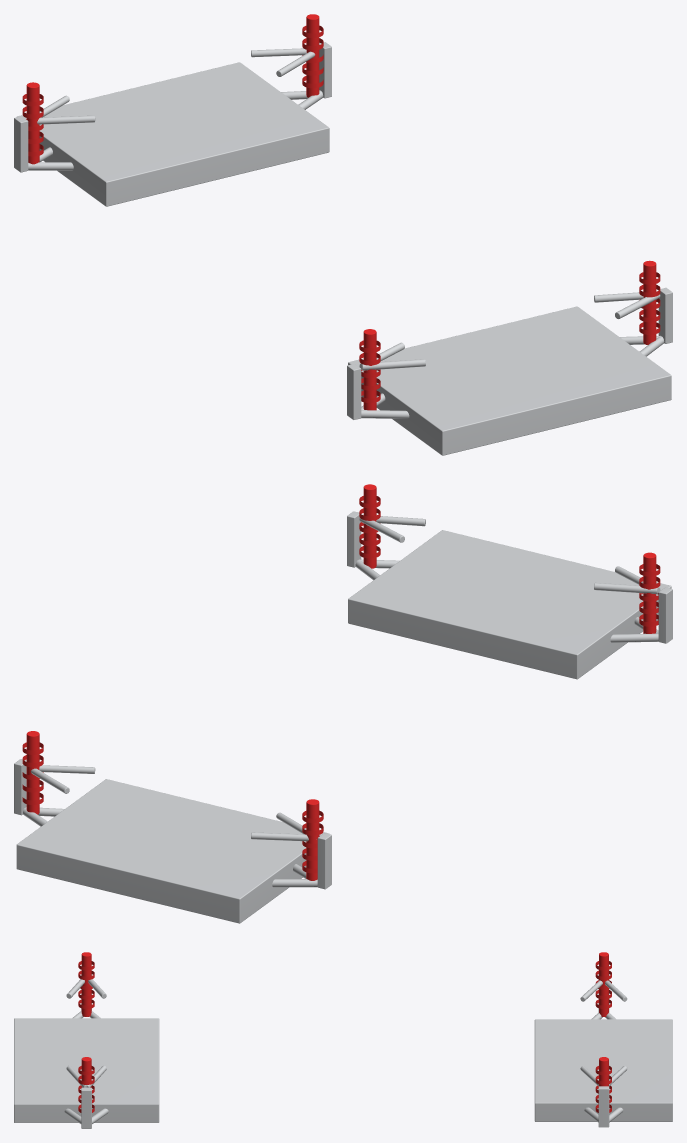
File: hardpoints.glb
The picture shows the model from 3 angles, top to bottom: view 1: azimuth 30°, elevation 25°; view 2: azimuth 150°, elevation 25°; view 3: azimuth 270°, elevation 25°; orthographic projection. The views are drawn at different scales.
Parts seen in each view (by area): view 1: GEO_Rear_Subframe, GEO_Front_Subframe, GEO_Adaptive_Coilovers, GEO_Suspension_Rear_MultiLink, GEO_Suspension_Front_Wishbones; view 2: GEO_Rear_Subframe, GEO_Front_Subframe, GEO_Adaptive_Coilovers, GEO_Suspension_Rear_MultiLink, GEO_Suspension_Front_Wishbones; view 3: GEO_Rear_Subframe, GEO_Front_Subframe, GEO_Adaptive_Coilovers, GEO_Suspension_Front_Wishbones, GEO_Suspension_Rear_MultiLink.
Boxes of the visible parts, x1=… form: GEO_Rear_Subframe: x1=348, y1=306, x2=671, y2=455; GEO_Front_Subframe: x1=17, y1=62, x2=329, y2=206; GEO_Adaptive_Coilovers: x1=22, y1=14, x2=660, y2=410; GEO_Suspension_Rear_MultiLink: x1=347, y1=287, x2=672, y2=419; GEO_Suspension_Front_Wishbones: x1=14, y1=42, x2=331, y2=172; GEO_Rear_Subframe: x1=348, y1=530, x2=671, y2=679; GEO_Front_Subframe: x1=16, y1=779, x2=329, y2=923; GEO_Adaptive_Coilovers: x1=22, y1=484, x2=660, y2=880; GEO_Suspension_Rear_MultiLink: x1=347, y1=511, x2=672, y2=643; GEO_Suspension_Front_Wishbones: x1=14, y1=759, x2=331, y2=889; GEO_Rear_Subframe: x1=14, y1=1018, x2=159, y2=1122; GEO_Front_Subframe: x1=534, y1=1019, x2=672, y2=1121; GEO_Adaptive_Coilovers: x1=78, y1=952, x2=611, y2=1112; GEO_Suspension_Front_Wishbones: x1=580, y1=974, x2=627, y2=1127; GEO_Suspension_Rear_MultiLink: x1=64, y1=974, x2=108, y2=1128.
Bounding box in the file's own units: 1.6 × 0.46 × 3.72.
